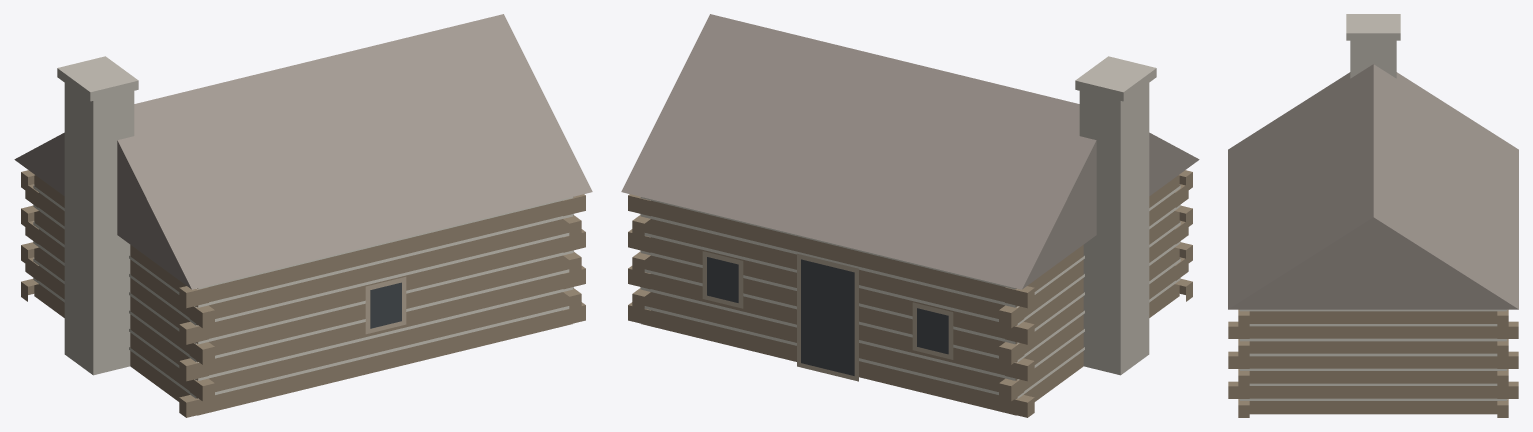
Rendered from north_side_school_1833__log_1833.glb.
The picture shows the model from 3 angles, left to right: view 1: azimuth 30°, elevation 25°; view 2: azimuth 150°, elevation 25°; view 3: azimuth 270°, elevation 25°; orthographic projection. The views are drawn at different scales.
Parts seen in each view (by area): view 1: north_side_school_1833__log_1833; view 2: north_side_school_1833__log_1833; view 3: north_side_school_1833__log_1833.
Boxes of the visible parts, x1=… form: north_side_school_1833__log_1833: x1=14, y1=14, x2=592, y2=417; north_side_school_1833__log_1833: x1=621, y1=14, x2=1199, y2=417; north_side_school_1833__log_1833: x1=1228, y1=14, x2=1518, y2=417.
Size of the model in its own units: 8.37 by 5.39 by 6.
